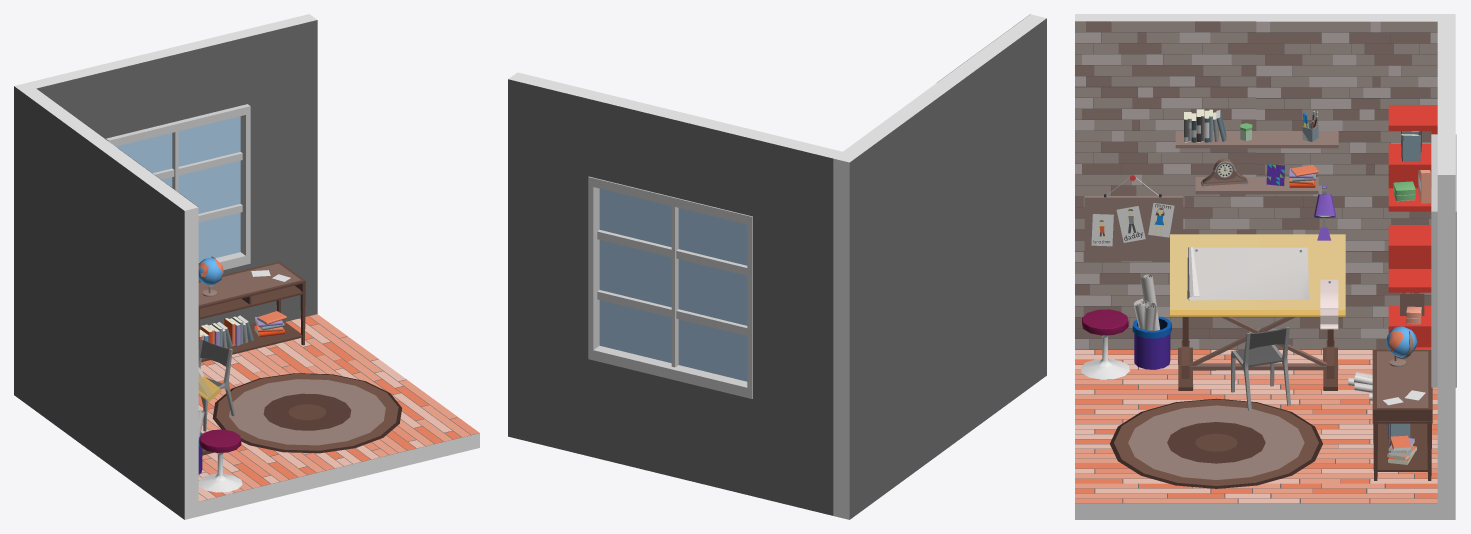
The model's file is room_13.glb.
3 renders of one model, left to right at view 1: azimuth 30°, elevation 25°; view 2: azimuth 150°, elevation 25°; view 3: azimuth 270°, elevation 25°, orthographic. The views are drawn at different scales.
Parts seen in each view (by area): view 1: Walls_046.015, Walls_046.014, floor_003.002, window_020.001, carpet_003.001, Walls_046.018, Walls_046.013, office_table_038.001, Walls_046.016, kitchen_chair_007.001, kitchen_chair_008.001, prop_023.002 (+4 smaller); view 2: Walls_046.015, window_020.001, Walls_046.016, Walls_046.014, Walls_046.017, Walls_046.018; view 3: floor_003.002, floor_018.002, floor_018.007, entertainment_006.001, carpet_003.001, floor_018.015, floor_018.025, Walls_046.013, Walls_046.015, Walls_046.014, shelf_035.001, picture_030.001 (+16 smaller).
Boxes of the visible parts, <box> form: Walls_046.015: <box>14,82,198,519</box>; Walls_046.014: <box>239,14,317,324</box>; floor_003.002: <box>198,314,479,501</box>; window_020.001: <box>105,104,250,270</box>; carpet_003.001: <box>212,373,401,453</box>; Walls_046.018: <box>98,31,247,138</box>; Walls_046.013: <box>198,316,479,516</box>; office_table_038.001: <box>198,261,305,362</box>; Walls_046.016: <box>28,65,106,138</box>; kitchen_chair_007.001: <box>198,429,242,492</box>; kitchen_chair_008.001: <box>198,338,234,431</box>; prop_023.002: <box>198,256,223,296</box>; Walls_046.015: <box>833,14,1046,519</box>; window_020.001: <box>588,176,752,398</box>; Walls_046.016: <box>752,132,842,515</box>; Walls_046.014: <box>508,72,598,456</box>; Walls_046.017: <box>589,359,751,495</box>; Walls_046.018: <box>589,92,760,216</box>; floor_003.002: <box>1075,350,1437,503</box>; floor_018.002: <box>1075,21,1256,185</box>; floor_018.007: <box>1256,21,1437,185</box>; entertainment_006.001: <box>1170,185,1345,390</box>; carpet_003.001: <box>1110,398,1322,488</box>; floor_018.015: <box>1256,185,1431,349</box>; floor_018.025: <box>1075,185,1256,349</box>; Walls_046.013: <box>1075,350,1437,519</box>; Walls_046.015: <box>1075,14,1455,350</box>; Walls_046.014: <box>1437,136,1455,519</box>; shelf_035.001: <box>1388,105,1437,349</box>; picture_030.001: <box>1084,174,1183,260</box>.
Size of the model in its own units: 4.2 by 4.2 by 4.21.
1 material, 1 textured.
